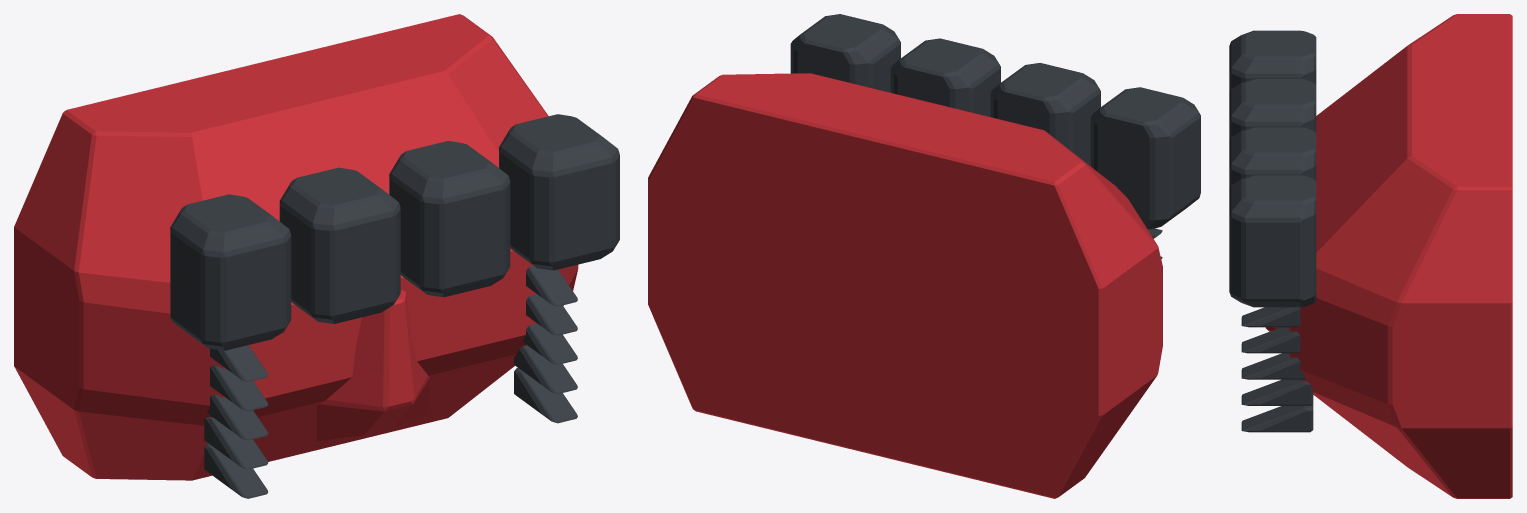
The model's file is HandFront_Set04_Ripjaw.fbx.
3 views of the same model, side by side, from view 1: azimuth 30°, elevation 25°; view 2: azimuth 150°, elevation 25°; view 3: azimuth 270°, elevation 25° (orthographic). The views are drawn at different scales.
Parts seen in each view (by area): view 1: HandFront_Set04_Ripjaw; view 2: HandFront_Set04_Ripjaw; view 3: HandFront_Set04_Ripjaw.
Part boxes in pixels (left/top/right/bottom): HandFront_Set04_Ripjaw: left=14, top=14, right=619, bottom=498; HandFront_Set04_Ripjaw: left=648, top=14, right=1200, bottom=498; HandFront_Set04_Ripjaw: left=1229, top=14, right=1512, bottom=498.
Bounding box in the file's own units: 0.3 × 0.2 × 0.1644.
